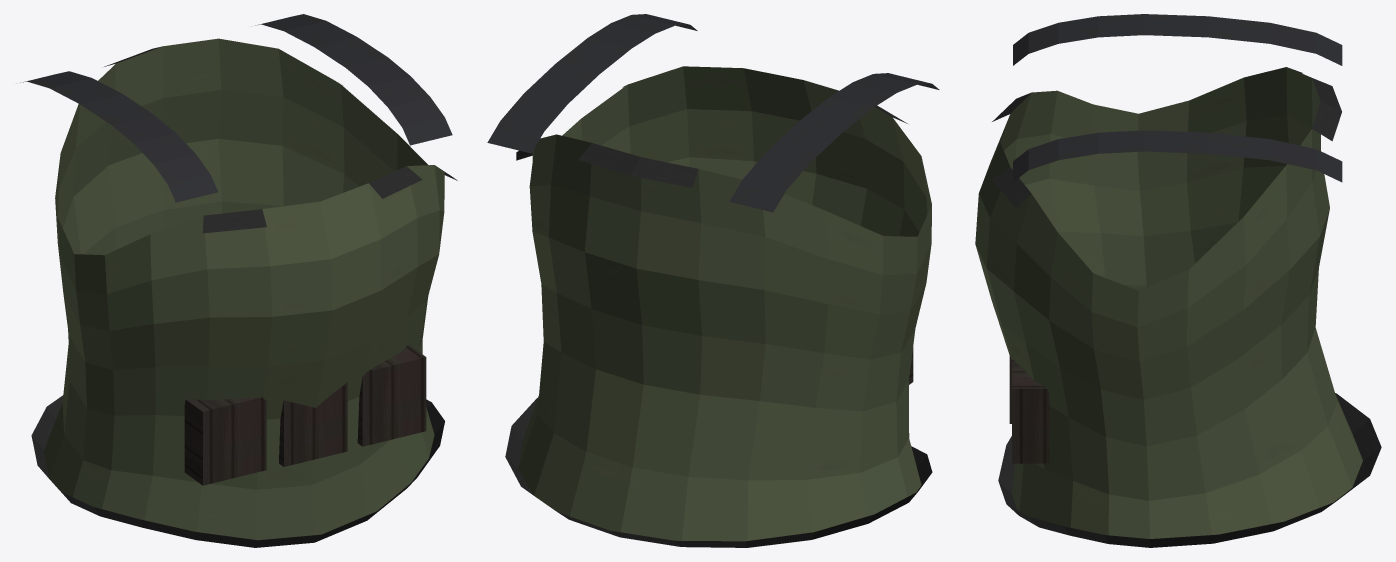
The model's file is eq_present_1_chest.glb.
3 renders of one model, left to right at view 1: azimuth 30°, elevation 25°; view 2: azimuth 150°, elevation 25°; view 3: azimuth 270°, elevation 25°, orthographic. The views are drawn at different scales.
Visible parts, largest first — view 1: eq_present_1_chest; view 2: eq_present_1_chest; view 3: eq_present_1_chest.
Boxes of the visible parts, left/top/right/bottom form: eq_present_1_chest: left=20, top=14, right=457, bottom=547; eq_present_1_chest: left=487, top=14, right=939, bottom=547; eq_present_1_chest: left=975, top=14, right=1381, bottom=547.
Size of the model in its own units: 0.4261 by 0.4313 by 0.3863.
Materials: 4 (4 with a texture image).
